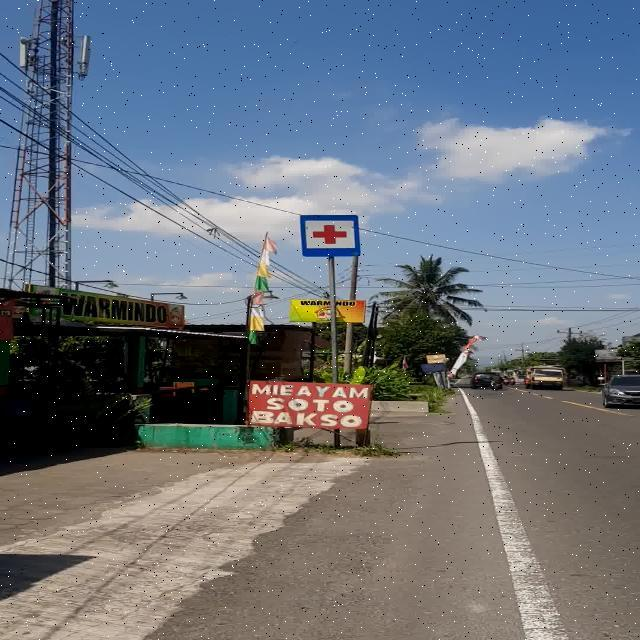Balai Pertolongan Pertama: (300, 214, 361, 256)
